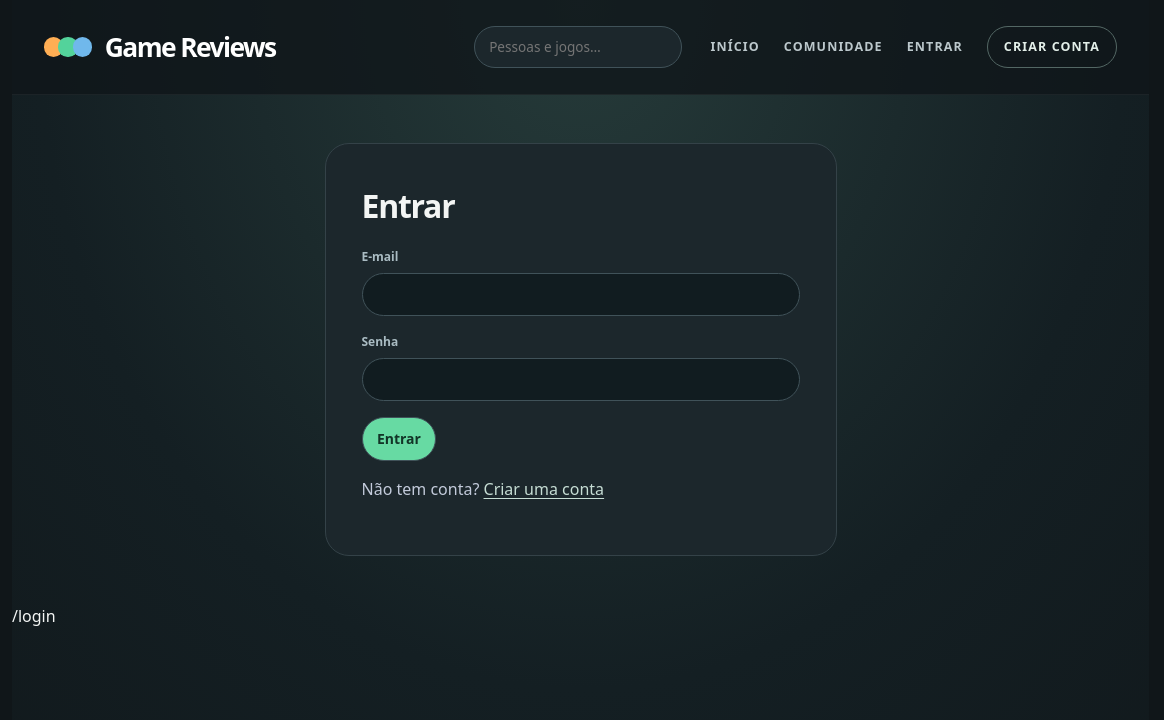
Test: digitação rápida aborta consulta anterior e somente a resposta atual altera a lista
The image size is (1164, 720).
Type "mario" into the dropdown named "Buscar pessoas e jogos". click: {"x": 578, "y": 47}
box: [474,26,682,68]
Wait 300 ms
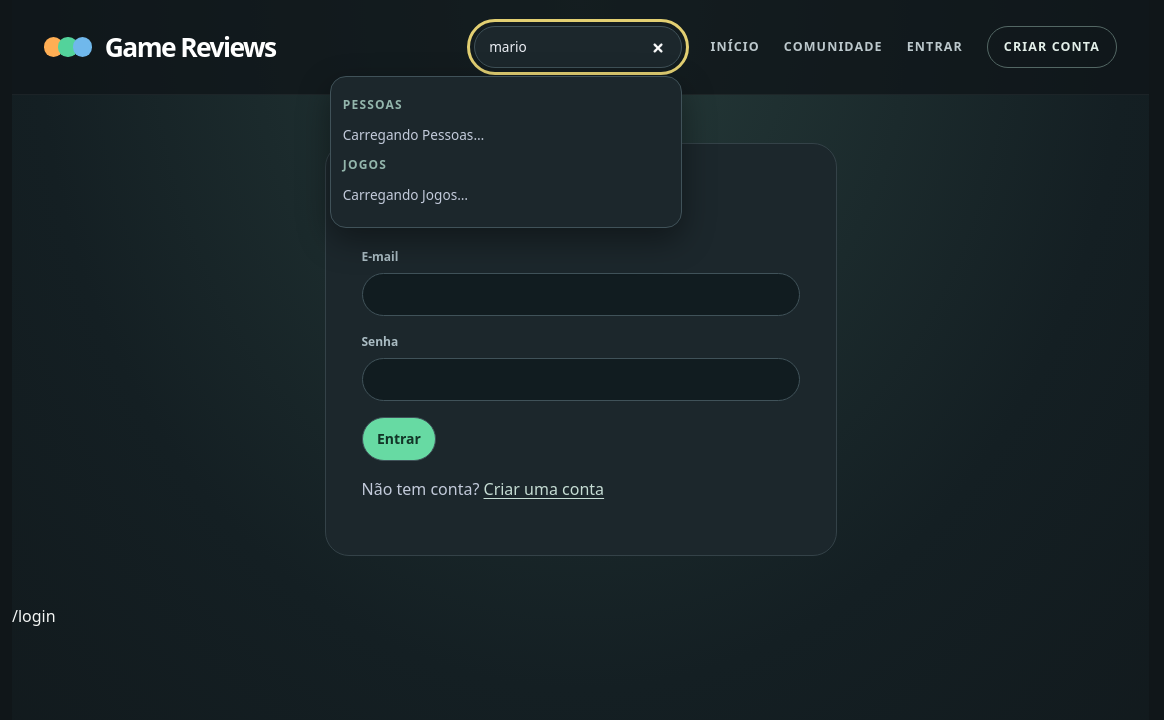
Replace the text in the dropdown named "Buscar pessoas e jogos" with "zelda". click: {"x": 578, "y": 47}
box: [474,26,682,68]
Wait 300 ms
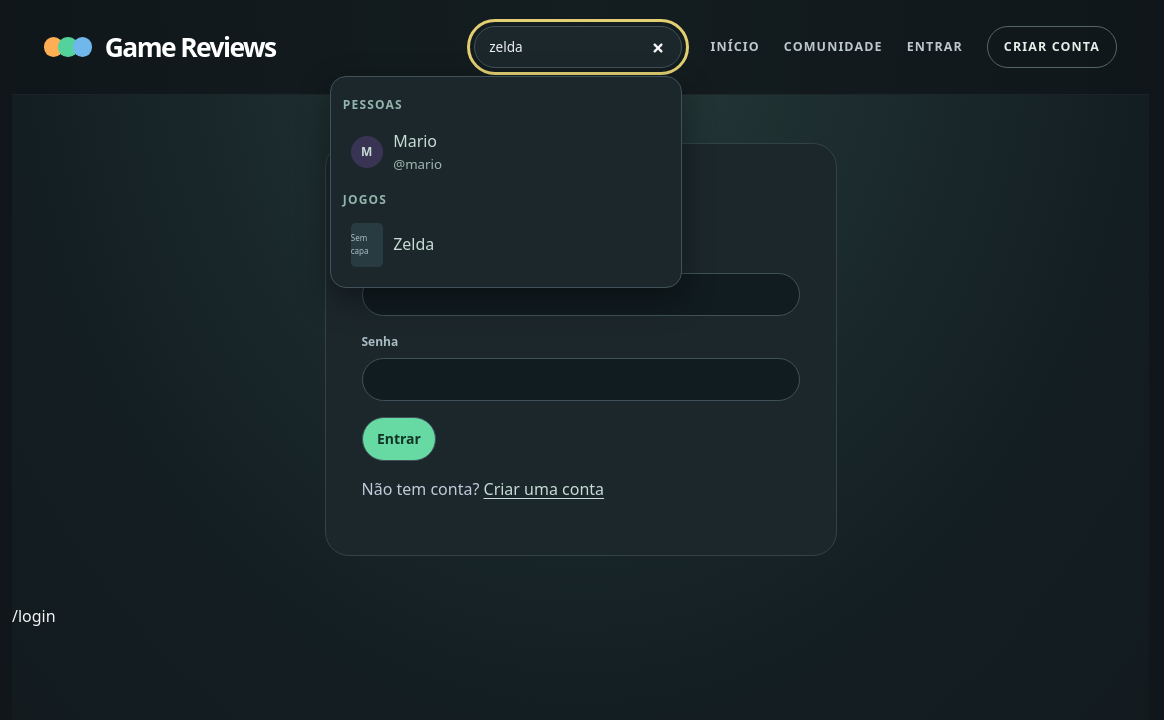
Check: the option "Sem capa Zelda" is shown, box [351,224,434,267]
